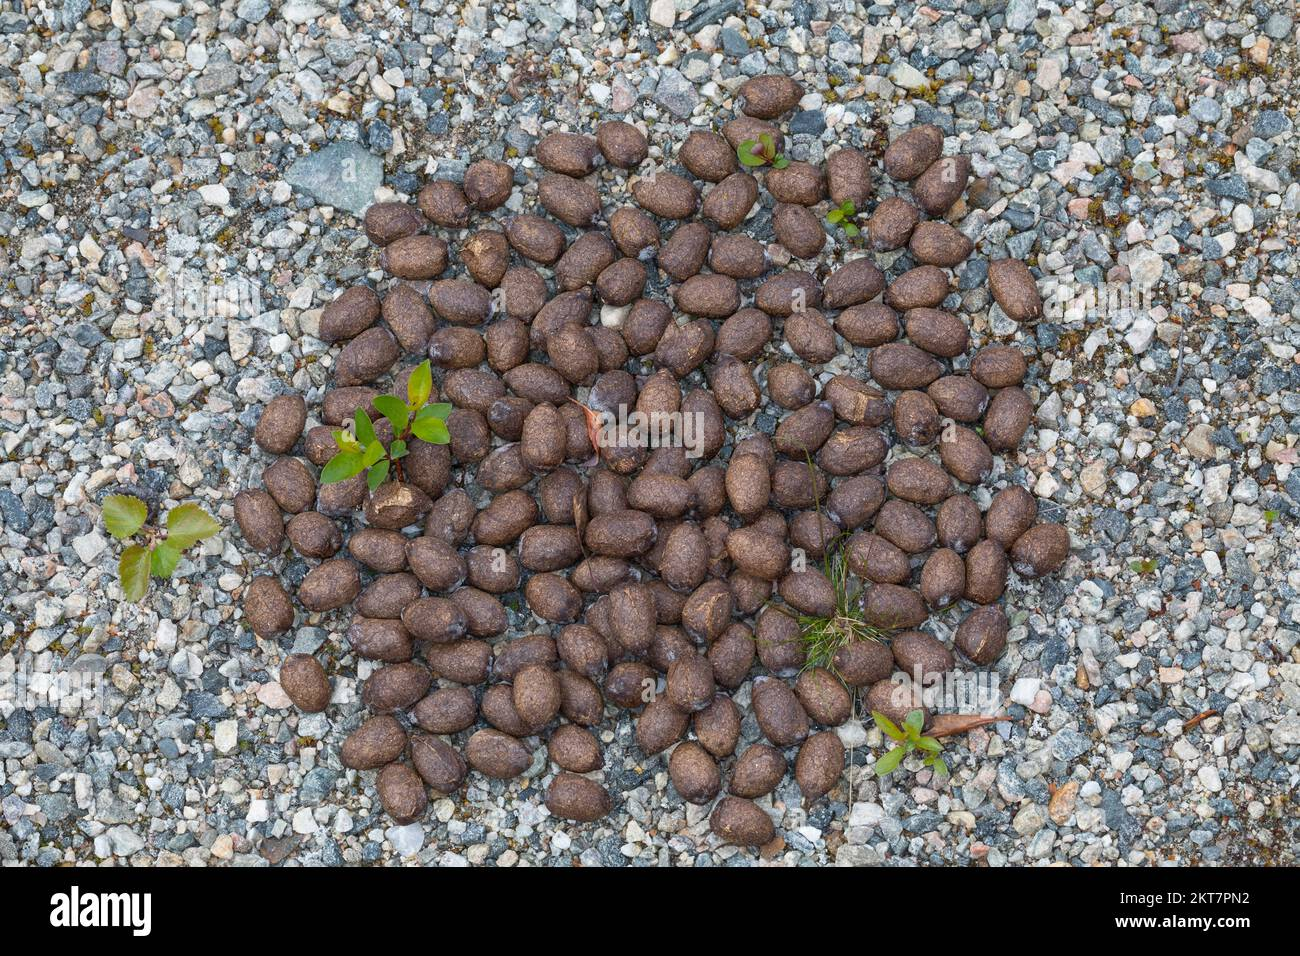Elk: (332, 181, 945, 785)
